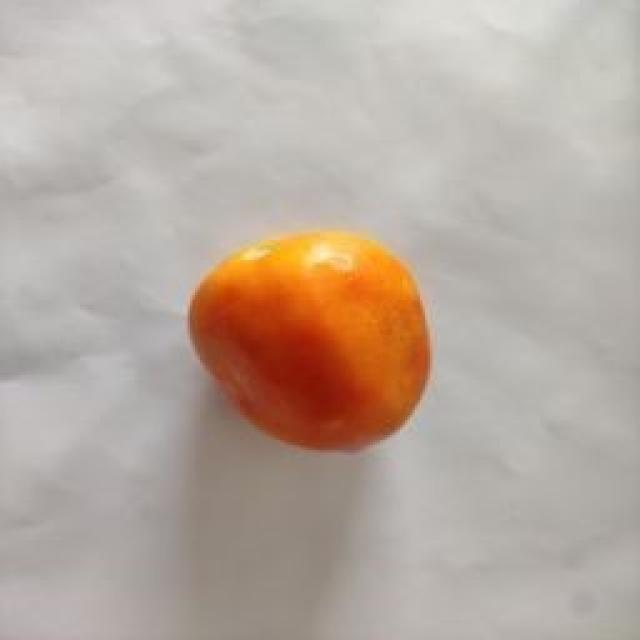Ripe: (182, 230, 436, 461)
